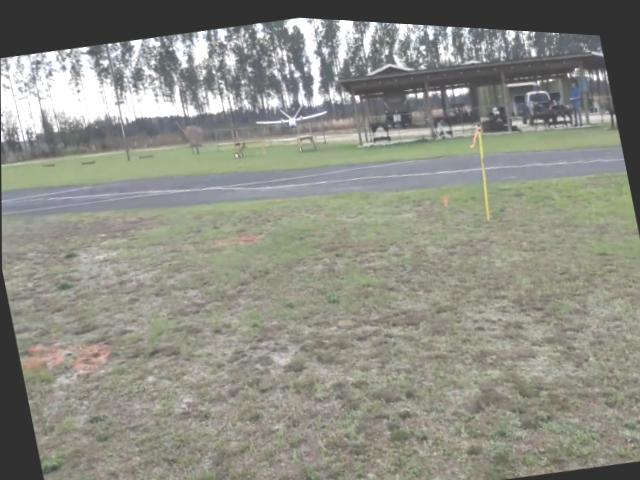plane: (252, 93, 327, 133)
